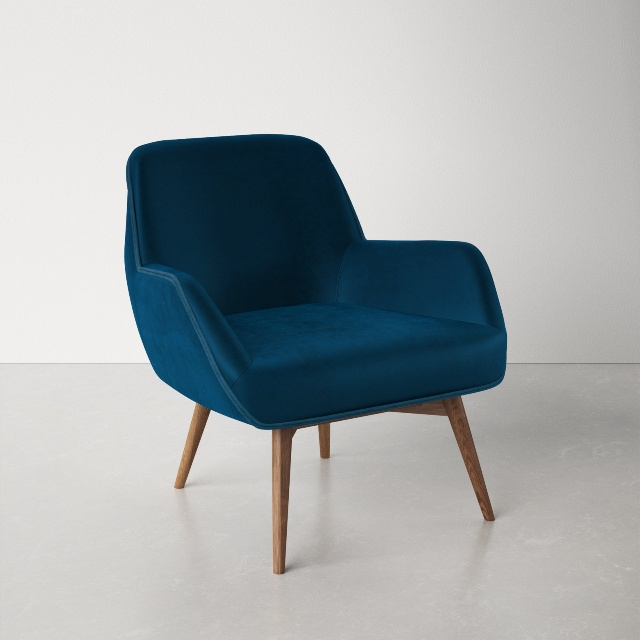obstacle: (125, 134, 506, 573)
